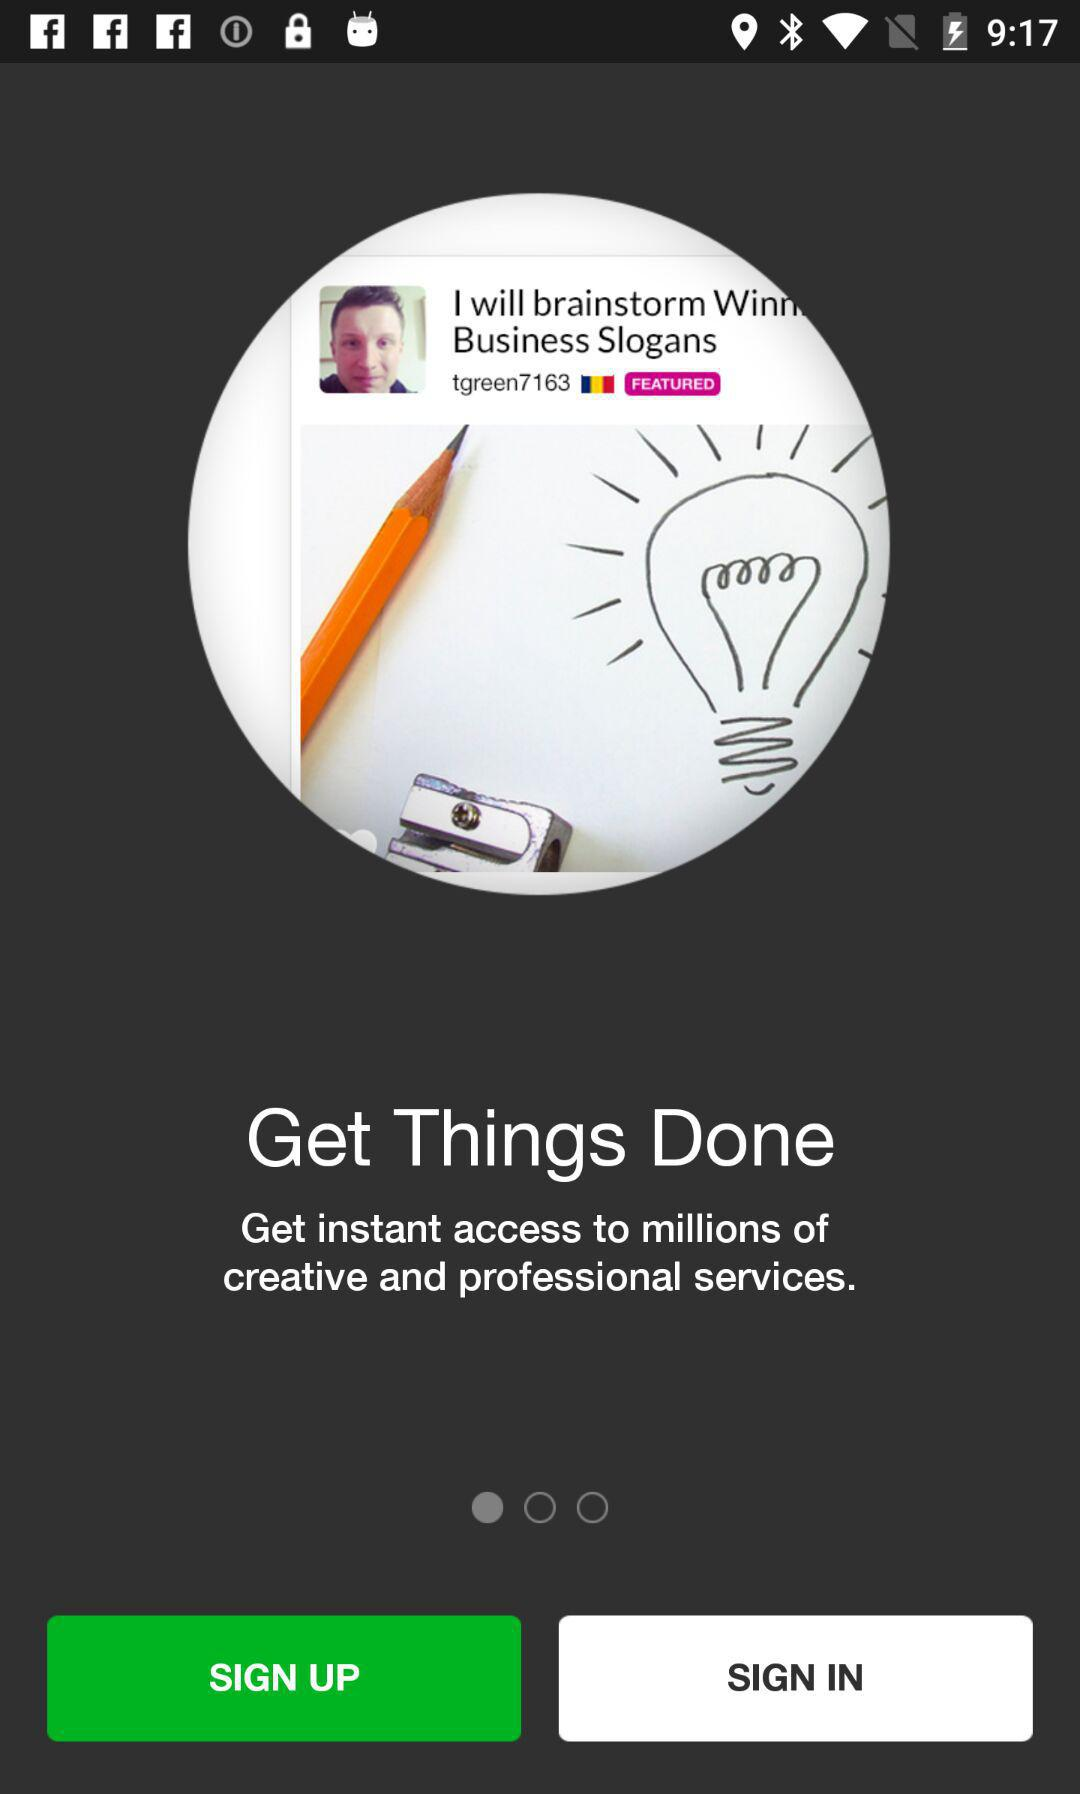Image: (187, 192, 892, 898)
PageIndicator: (470, 1490, 611, 1526)
Text: (222, 1210, 858, 1301), (247, 1106, 837, 1187)
TextButton: (559, 1615, 1034, 1743), (47, 1615, 521, 1743)
UpperTaskBar: (1, 1, 1080, 64)
